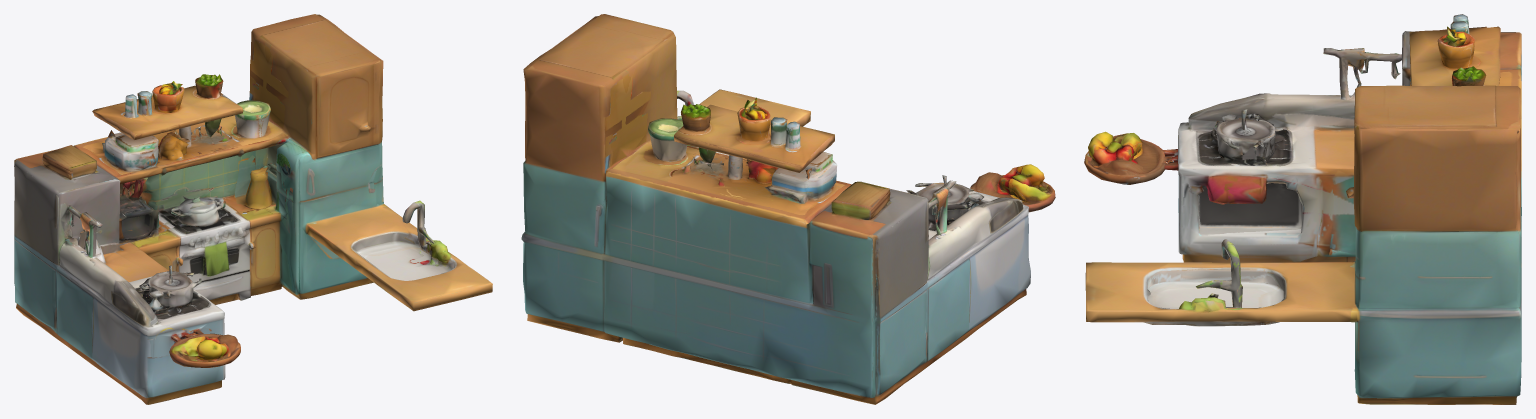
Rendered from kitchen.glb.
The picture shows the model from 3 angles, left to right: view 1: azimuth 30°, elevation 25°; view 2: azimuth 150°, elevation 25°; view 3: azimuth 270°, elevation 25°; orthographic projection. The views are drawn at different scales.
Bounding box in the file's own units: 65692 × 45153 × 63880.
Materials: 1 (1 with a texture image).
